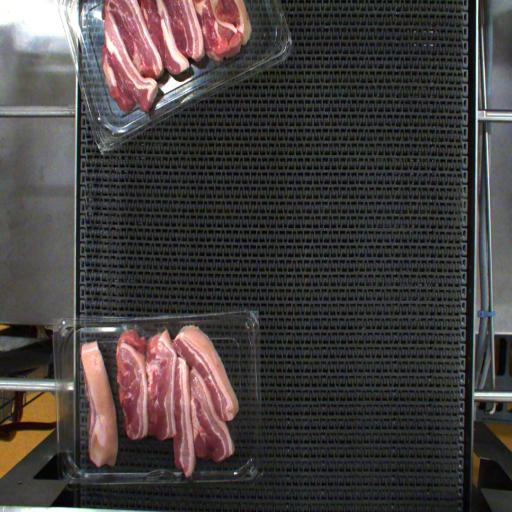loose-meat: (76, 335, 126, 460)
packaging-error: (116, 320, 154, 342)
twisted-meat: (71, 343, 133, 474)
